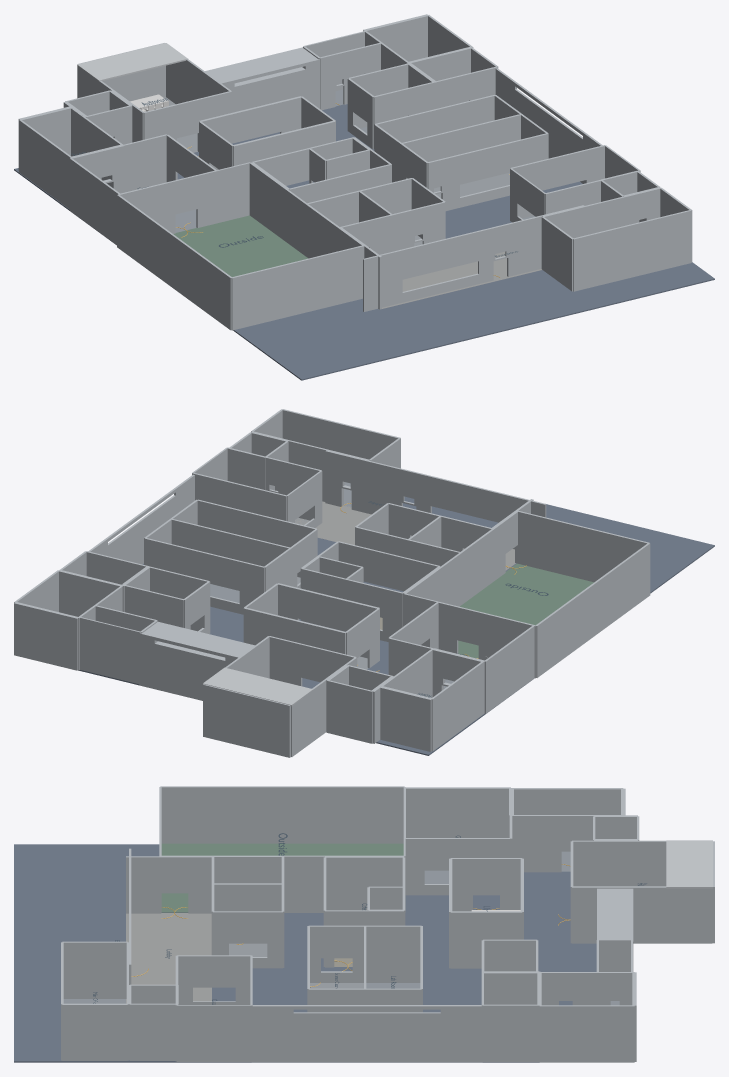
File: school_blockout.glb
3 renders of one model, top to bottom at view 1: azimuth 30°, elevation 25°; view 2: azimuth 150°, elevation 25°; view 3: azimuth 270°, elevation 25°, orthographic. The views are drawn at different scales.
Parts seen in each view (by area): view 1: School Site Floor - circulation, Lobby - South Wall, Outside - South Wall, Main Office - South Wall, Outside - West Wall, School - North Exterior Wall, Outside - East Wall, Outside - North Wall, Outside Floor, Science Classroom - South Wall, School - East Exterior Wall, Locker Room - West Wall (+49 smaller); view 2: Lobby - South Wall, School Site Floor - circulation, Outside - West Wall, Outside - South Wall, School - North Exterior Wall, Outside Floor, Auditorium - North Wall, Lab Room - North Wall, Outside - East Wall, Cafeteria - North Wall, Bathroom - North Wall, Main Office - South Wall (+48 smaller); view 3: School Site Floor - circulation, Outside - West Wall, School - East Exterior Wall, Auditorium - East Wall, Cafeteria - East Wall, Gym - West Wall, Lobby Floor, Auditorium - West Wall, Classroom E - East Wall, Main Office - East Wall, Main Office - West Wall, Outside Floor (+35 smaller).
Part boxes in pixels (x1,y1,x2,y2): School Site Floor - circulation: (14,104,714,380); Lobby - South Wall: (363,205,584,311); Outside - South Wall: (231,245,364,330); Main Office - South Wall: (573,210,691,291); Outside - West Wall: (117,194,231,330); School - North Exterior Wall: (205,47,319,112); Outside - East Wall: (249,162,350,258); Outside - North Wall: (117,162,249,233); Outside Floor: (173,215,308,276); Science Classroom - South Wall: (427,133,548,210); School - East Exterior Wall: (495,68,602,183); Locker Room - West Wall: (19,119,71,208); Lobby - South Wall: (325,450,546,549); School Site Floor - circulation: (78,496,714,755); Outside - West Wall: (535,543,650,677); Outside - South Wall: (517,510,649,582); School - North Exterior Wall: (139,621,254,700); Outside Floor: (458,563,593,658); Auditorium - North Wall: (203,684,290,757); Lab Room - North Wall: (144,538,264,614); Outside - East Wall: (403,520,505,625); Cafeteria - North Wall: (14,602,78,670); Bathroom - North Wall: (79,617,140,683); Main Office - South Wall: (282,409,400,459); School Site Floor - circulation: (14,844,596,1062); Outside - West Wall: (160,786,404,843); School - East Exterior Wall: (252,1005,482,1062); Auditorium - East Wall: (572,886,712,943); Cafeteria - East Wall: (539,1005,634,1062); Gym - West Wall: (405,787,510,837); Lobby Floor: (126,913,211,1003); Auditorium - West Wall: (572,840,666,886); Classroom E - East Wall: (177,1005,251,1061); Main Office - East Wall: (62,1003,127,1060); Main Office - West Wall: (62,941,127,998); Outside Floor: (161,843,403,912).
Bounding box in the file's own units: 46.09 × 5.67 × 62.09.
